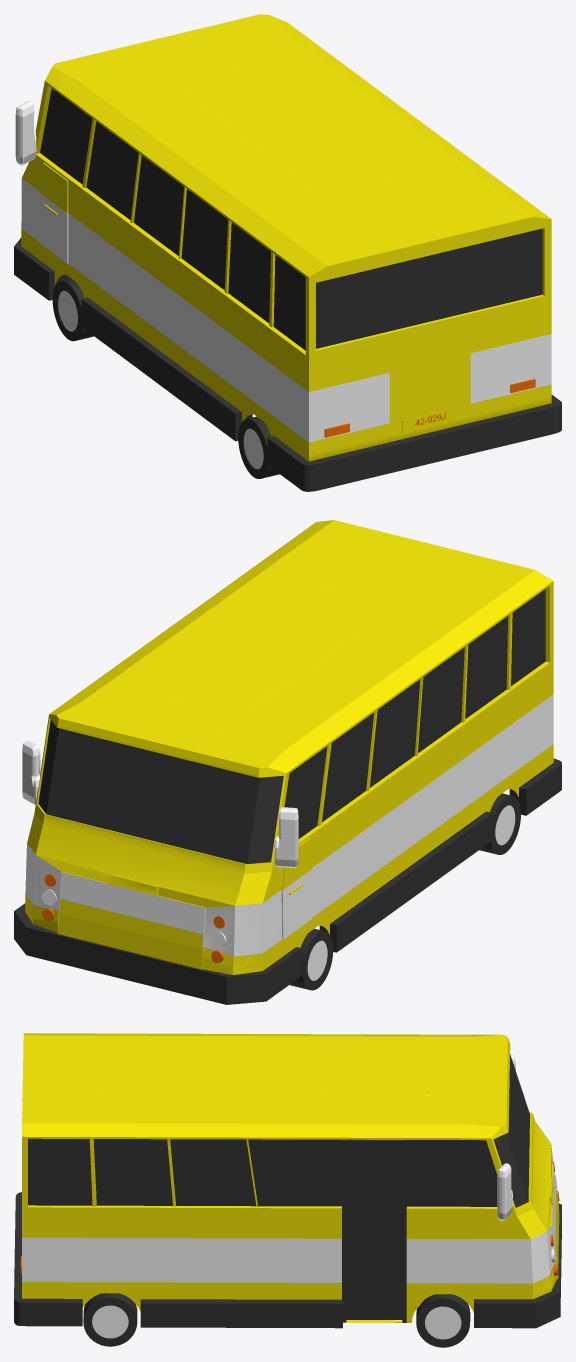
File: bus.glb
3 renders of one model, top to bottom at view 1: azimuth 30°, elevation 25°; view 2: azimuth 150°, elevation 25°; view 3: azimuth 270°, elevation 25°, orthographic. The views are drawn at different scales.
Parts seen in each view (by area): view 1: contract, Box32982, Box32983, Box32988, Box32979, Cylinder5449, Cylinder5445, Box32989; view 2: contract, Box32988, Box32983, Box32982, Box32979, Cylinder5445, Box32980, Cylinder5449; view 3: contract, Box32984, Box32988, Box32982, Box32981, Cylinder5440, Cylinder5447, Box32980.
Part boxes in pixels (left/top/right/bottom): contract: left=21, top=14, right=551, bottom=469; Box32982: left=267, top=394, right=561, bottom=491; Box32983: left=81, top=297, right=252, bottom=441; Box32988: left=14, top=238, right=70, bottom=300; Box32979: left=15, top=100, right=36, bottom=165; Cylinder5449: left=238, top=416, right=279, bottom=478; Cylinder5445: left=52, top=278, right=93, bottom=341; Box32989: left=402, top=407, right=458, bottom=432; contract: left=25, top=520, right=553, bottom=980; Box32988: left=14, top=903, right=301, bottom=1004; Box32983: left=319, top=811, right=492, bottom=952; Box32982: left=509, top=758, right=561, bottom=815; Box32979: left=274, top=807, right=298, bottom=867; Cylinder5445: left=290, top=928, right=333, bottom=990; Box32980: left=22, top=740, right=40, bottom=805; Cylinder5449: left=479, top=793, right=520, bottom=854; contract: left=22, top=1033, right=559, bottom=1339; Box32984: left=140, top=1299, right=342, bottom=1328; Box32988: left=474, top=1203, right=561, bottom=1328; Box32982: left=14, top=1192, right=82, bottom=1326; Box32981: left=342, top=1139, right=406, bottom=1322; Cylinder5440: left=83, top=1293, right=137, bottom=1346; Cylinder5447: left=416, top=1294, right=470, bottom=1347; Box32980: left=497, top=1163, right=512, bottom=1220.
Size of the model in its own units: 4.68 by 3.88 by 9.
